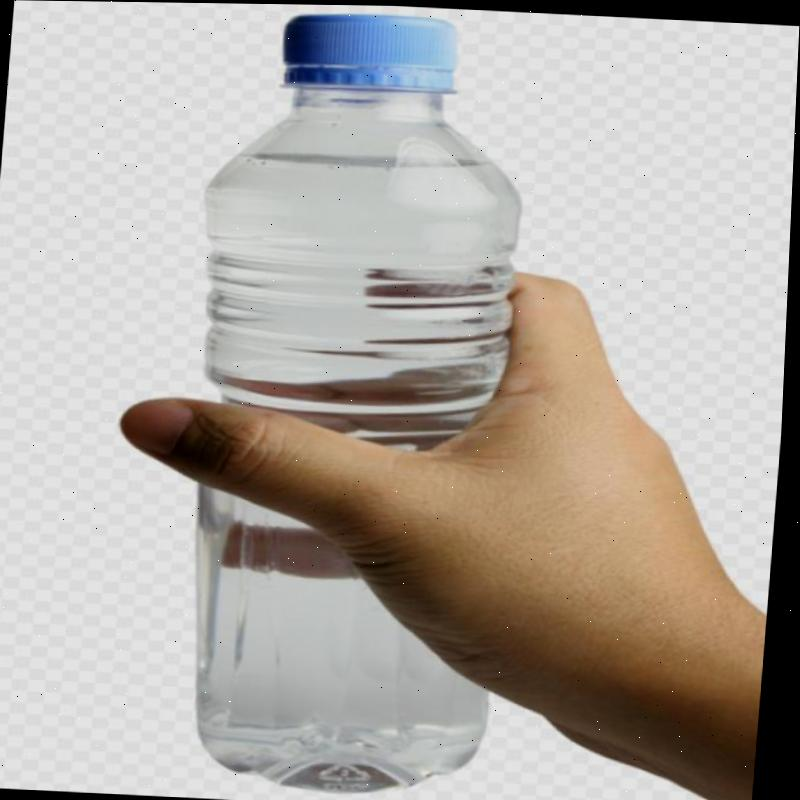botella: (169, 2, 542, 800)
